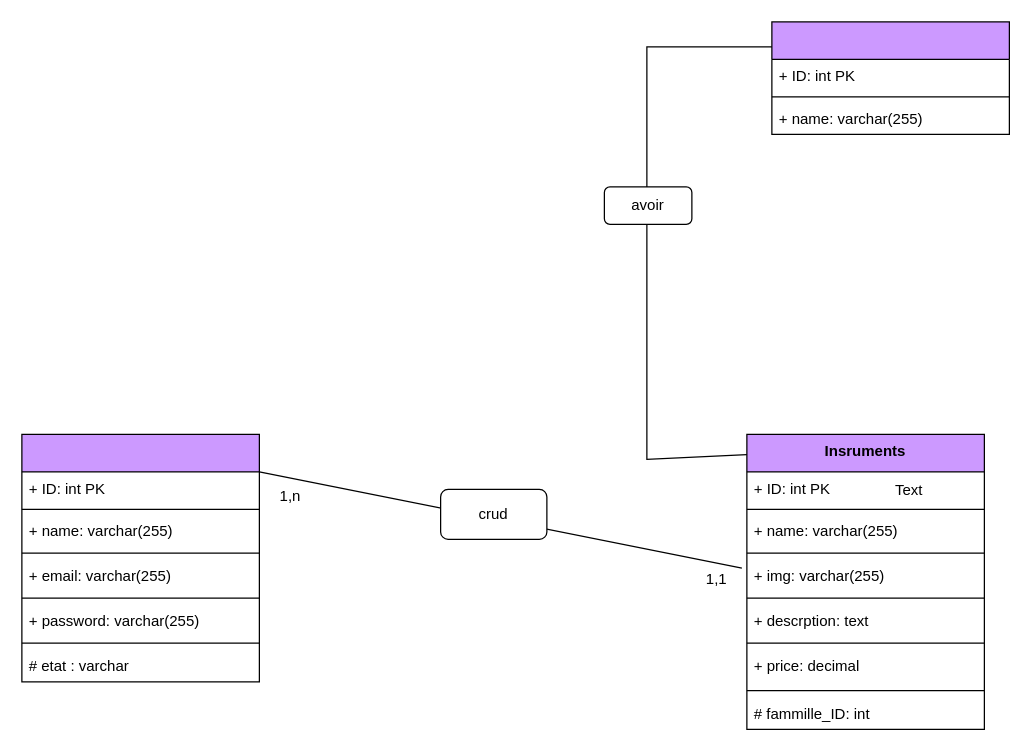
Image size: 1031x755. Some labels were removed from this diagram. Each missing label, with the box of its shape:
Admin: (21, 433, 259, 682)
Fammilles: (771, 21, 1009, 134)
